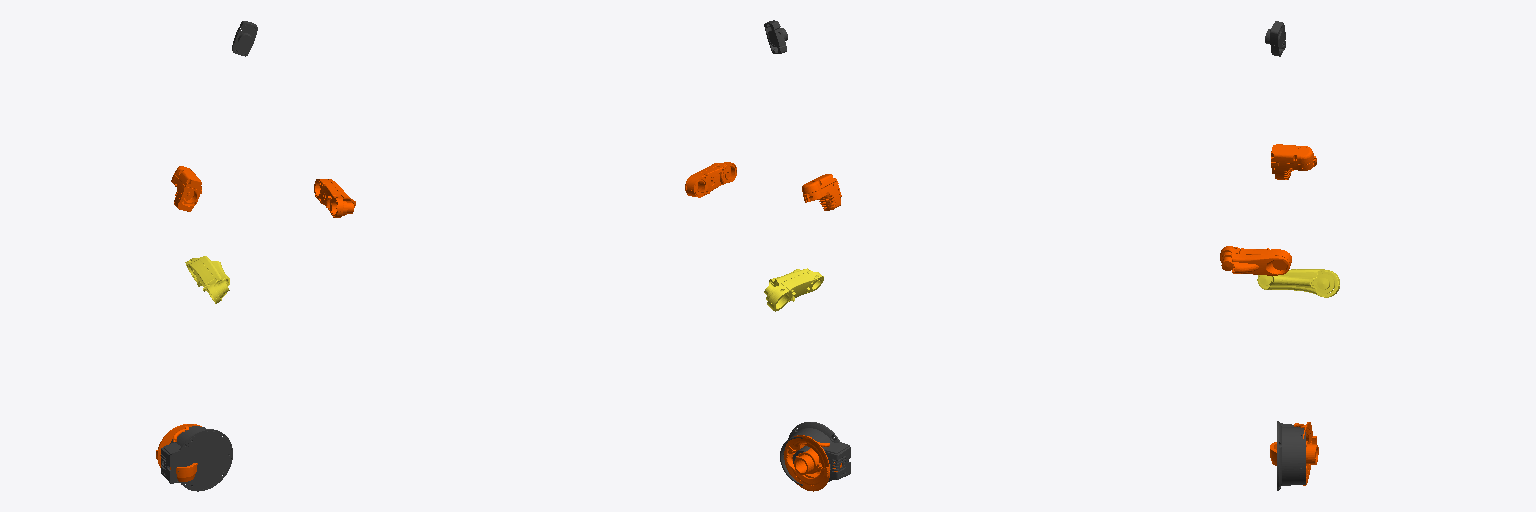
robot.urdf — youbot:
<?xml version="1.0" ?>
<!-- =================================================================================== -->
<!-- |    This document was autogenerated by xacro from youbot_description/robots/youbot_arm_only.urdf.xacro | -->
<!-- |    EDITING THIS FILE BY HAND IS NOT RECOMMENDED                                 | -->
<!-- =================================================================================== -->
<robot name="youbot" xmlns:controller="http://playerstage.sourceforge.net/gazebo/xmlschema/#controller" xmlns:interface="http://playerstage.sourceforge.net/gazebo/xmlschema/#interface" xmlns:sensor="http://playerstage.sourceforge.net/gazebo/xmlschema/#sensor" xmlns:xacro="http://ros.org/wiki/xacro">
  <!-- The following included files set up definitions of parts of the robot body -->
  <!-- misc common stuff? -->
  <!-- Casters -->
  <!-- materials for visualization -->
  <material name="youBot/Orange">
    <color rgba="1.0 0.4 0.0 1.0"/>
  </material>
  <material name="youBot/Grey">
    <color rgba="0.7 0.7 0.7 1.0"/>
  </material>
  <material name="youBot/DarkGrey">
    <color rgba="0.3 0.3 0.3 1.0"/>
  </material>
  <material name="youBot/White">
    <color rgba="1.0 1.0 1.0 1.0"/>
  </material>
  <material name="youBot/Black">
    <color rgba="0.0 0.0 0.0 1.0"/>
  </material>
  <material name="youBot/Red">
    <color rgba="1.0 0.0 0.0 1.0"/>
  </material>
  <material name="youBot/Green">
    <color rgba="0.0 1.0 0.0 1.0"/>
  </material>
  <material name="youBot/Blue">
    <color rgba="0.0 0.0 0.8 1.0"/>
  </material>
  <material name="youBot/LightGrey">
    <color rgba="0.82 0.82 0.82 1.0"/>
  </material>
  <!-- youbot arm -->
  <!-- reduction ratio doesn't affect the model-->
  <!-- reduction ratio must not to be 0-->
  &gt;

	
  <!-- common properties -->
  <!-- arm limits positions (deg) -->
  <!-- dynamic properties : mass (kg) Alu data sheet -->
  <!--<property name="link_0_mass" value="0.845" />
	<property name="link_1_mass" value="0.1" />
	<property name="link_2_mass" value="0.1" />
	<property name="link_3_mass" value="0.1" />
	<property name="link_4_mass" value="0.1" />
	<property name="link_5_mass" value="0.1" />-->
  <!-- TODO: add inertia tensor-->
  <!-- youbot arm -->
  <!-- common properties -->
  <!-- fingers limits, values are in meters -->
  <!-- controller manager -->
  <gazebo>
    <plugin filename="libgazebo_ros_control.so" name="gazebo_ros_controller"/>
  </gazebo>
  <!-- Now we can start using the macros included above to define the actual youbot -->
  <!-- The first use of a macro.  This one was defined in base.urdf.xacro above.
       A macro like this will expand to a set of link and joint definitions, and to additional
       Gazebo-related extensions (sensor plugins, etc).  The macro takes an argument, name, 
       that equals "base", and uses it to generate names for its component links and joints 
       (e.g., base_link).  The included origin block is also an argument to the macro.  By convention, 
       the origin block defines where the component is w.r.t its parent (in this case the parent 
       is the world frame). For more, see http://www.ros.org/wiki/xacro -->
  <!-- foot for arm-->
  <link name="base_link">
   <!--<inertial>
      <origin rpy="0 0 0" xyz="0 0 0"/>
      <mass value="10.0"/>
      <inertia ixx="0.1" ixy="0" ixz="0" iyy="0.1" iyz="0" izz="0.1"/>
    </inertial>-->
  </link>

  <!-- joint between base_link and arm_0_link -->
  <joint name="arm_joint_0" type="fixed">
    <origin rpy="0 0 0" xyz="0 0 0"/>
    <parent link="base_link"/>
    <child link="arm_link_0"/>
  </joint>
  <link name="arm_link_0">
    <inertial>
      <!--<origin xyz="0.023 0 0.006" rpy="0 0 0"/>-->
      <origin rpy="0 0 0" xyz="0 0 0"/>
      <mass value="0.961"/>
      <inertia ixx="0.01" ixy="0" ixz="0" iyy="0.01" iyz="0" izz="0.01"/>
    </inertial>
    <visual>
      <origin rpy="0 0 0" xyz="0 0 0"/>
      <geometry>
        <mesh filename="package://youbot_description/meshes/youbot_arm/arm0.stl"/>
      </geometry>
      <material name="youBot/DarkGrey"/>
    </visual>
    <collision>
      <!--<origin xyz="0.023 0 0.006" rpy="0 0 0"/>-->
      <origin rpy="0 0 0" xyz="0 0 0"/>
      <geometry>
        <mesh filename="package://youbot_description/meshes/youbot_arm/arm0_convex.stl"/>
        <!--<cylinder length="0.078" radius="0.093"/>-->
      </geometry>
    </collision>
  </link>
  <!-- joint between arm_0_link and arm_1_link -->
  <joint name="arm_joint_1" type="revolute">
    <origin rpy="0 0 2.96705972839" xyz="0.0 0 0.0"/>
    <parent link="arm_link_0"/>
    <child link="arm_link_1"/>
    <axis xyz="0 0 -1"/>
    <!--<calibration rising="${arm_1_ref}" falling="${arm_1_ref}"/>-->
    <dynamics damping="1" friction="1"/>
    <!-- damping - N*s/m, N*s*m/rad -->
    <!-- friction - N, N*m -->
    <limit effort="9.5" lower="0" upper="5.89921287174" velocity="1.57079632679"/>
    <!--effort - N, N*m-->
    <!--velocity - m/s, rad/s-->
    <!--safety_controller k_position="20" k_velocity="${9.5/M_PI / 2.0}" soft_lower_limit="${threshold}" soft_upper_limit="${joint_1_limit_soft}" /-->
    <!--k_position N/m, N/rad-->
    <!--k_velocity N*s/m, N*s*m/rad-->
    <!--for details: http://www.ros.org/wiki/pr2_controller_manager/safety_limits-->
  </joint>
  <link name="arm_link_1">
    <inertial>
      <mass value="1.39"/>
      <origin rpy="0 0 0" xyz="0.01489 0.00213 0.00213"/>
      <inertia ixx="0.0029525" ixy="0.0" ixz="0.0" iyy="0.0060091" iyz="0.0" izz="0.0058821"/>
    </inertial>
    <visual>
      <origin rpy="0 0 0" xyz="0 0 0"/>
      <geometry>
        <mesh filename="package://youbot_description/meshes/youbot_arm/arm1.stl"/>
      </geometry>
      <material name="youBot/Orange"/>
    </visual>
    <collision>
      <!--<origin xyz="0 0 -0.003" rpy="0 0 0" />-->
      <origin rpy="0 0 0" xyz="0 0 0"/>
      <geometry>
        <mesh filename="package://youbot_description/meshes/youbot_arm/arm1_convex.stl"/>
        <!--<cylinder length="0.102" radius="0.080"/>-->
      </geometry>
    </collision>
  </link>
  <!-- joint between arm_1_link and arm_2_link -->
  <joint name="arm_joint_2" type="revolute">
    <origin rpy="0 -1.1344640138 0" xyz="0.0 0 0.5"/>
    <parent link="arm_link_1"/>
    <child link="arm_link_2"/>
    <axis xyz="0 1 0"/>
    <!--<calibration rising="${arm_2_ref}" falling="${arm_2_ref}"/>-->
    <dynamics damping="1" friction="1"/>
    <limit effort="9.5" lower="0" upper="2.70526034059" velocity="1.57079632679"/>
    <!--safety_controller k_position="20" k_velocity="${2*9.5/M_PI}" soft_lower_limit="${threshold}" soft_upper_limit="${joint_2_limit_soft}" /-->
  </joint>
  <link name="arm_link_2">
    <inertial>
      <mass value="1.318"/>
      <origin rpy="0 0 0" xyz="0.01053 -0.0307 0.08597"/>
      <inertia ixx="0.0031145" ixy="0.0" ixz="0.0" iyy="0.0005843" iyz="0.0" izz="0.0031631"/>
    </inertial>
    <visual>
      <origin rpy="0 0 0" xyz="0 -0.032 0.078"/>
      <geometry>
        <mesh filename="package://youbot_description/meshes/youbot_arm/arm2.stl"/>
      </geometry>
    </visual>
    <collision>
      <!--<origin xyz="0.001 -0.041 0.074" rpy="0 0 0" />-->
      <origin rpy="0 0 0" xyz="0 -0.032 0.078"/>
      <geometry>
        <mesh filename="package://youbot_description/meshes/youbot_arm/arm2_convex.stl"/>
        <!--<box size="0.074 0.082 0.222"/>-->
      </geometry>
    </collision>
  </link>
  <!-- joint between arm_2_link and arm_3_link -->
  <!--<joint name="${name}_joint_3" type="revolute">
			<origin xyz="0.000 0.000 0.155" rpy="0 ${146 * M_PI / 180} 0"/>
			<parent link="${name}_link_2"/>
			<child link="${name}_link_3"/>
			<axis xyz="0 1 0"/>
			<dynamics damping="1" friction="1" />
			<limit effort="${6}" velocity="${M_PI / 2.0}" lower="-${joint_3_limit}" upper="0"/>
      <safety_controller k_position="20" k_velocity="50" soft_lower_limit="-${joint_3_limit_soft}" soft_upper_limit="${threshold}" />
		</joint>-->
  <joint name="arm_joint_3" type="revolute">
    <origin rpy="0 2.54818070791 0" xyz="0.000 0.000 0.555"/>
    <parent link="arm_link_2"/>
    <child link="arm_link_3"/>
    <axis xyz="0 1 0"/>
    <dynamics damping="1" friction="1"/>
    <limit effort="6.0" lower="-5.18362787842" upper="0" velocity="1.57079632679"/>
    <!--safety_controller k_position="20" k_velocity="50" soft_lower_limit="-${joint_3_limit_soft}" soft_upper_limit="-${threshold}" /-->
  </joint>
  <link name="arm_link_3">
    <inertial>
      <mass value="0.821"/>
      <origin rpy="0 0 0" xyz="0.0001 0.0207 0.07107"/>
      <inertia ixx="0.00172767" ixy="0.0" ixz="0.0" iyy="0.00041967" iyz="0.0" izz="0.0018468"/>
    </inertial>
    <visual>
      <origin rpy="0 0 0" xyz="0.000 0.028 0.079"/>
      <geometry>
        <mesh filename="package://youbot_description/meshes/youbot_arm/arm3.stl"/>
      </geometry>
      <material name="youBot/Orange"/>
    </visual>
    <collision>
      <!--<origin xyz="0.000 0.025 0.067" rpy="0 0 0" />-->
      <origin rpy="0 0 0" xyz="0.000 0.028 0.079"/>
      <geometry>
        <mesh filename="package://youbot_description/meshes/youbot_arm/arm3_convex.stl"/>
        <!--<box size="0.064 0.054 0.192"/>-->
      </geometry>
    </collision>
  </link>
  <!-- joint between arm_3_link and arm_4_link -->
  <joint name="arm_joint_4" type="revolute">
    <origin rpy="0 -1.78896248329 0" xyz="0.000 0.000 0.535"/>
    <parent link="arm_link_3"/>
    <child link="arm_link_4"/>
    <axis xyz="0 1 0"/>
    <!--<calibration rising="${arm_4_ref}" falling="${arm_4_ref}"/>-->
    <dynamics damping="1" friction="1"/>
    <limit effort="2.0" lower="0" upper="3.57792496659" velocity="1.57079632679"/>
    <!--safety_controller k_position="20" k_velocity="100" soft_lower_limit="0" soft_upper_limit="${joint_4_limit_soft}" /-->
  </joint>
  <link name="arm_link_4">
    <inertial>
      <mass value="0.769"/>
      <origin rpy="0 0 0" xyz="0.00011 -0.02 0.05019"/>
      <inertia ixx="0.0006764" ixy="0.0" ixz="0.0" iyy="0.0010573" iyz="0.0" izz="0.0006610"/>
    </inertial>
    <visual>
      <origin rpy="0 0 0" xyz="0 -0.010 0.029"/>
      <geometry>
        <mesh filename="package://youbot_description/meshes/youbot_arm/arm4.stl"/>
      </geometry>
      <material name="youBot/Orange"/>
    </visual>
    <collision>
      <!--<origin xyz="0 0 0.026" rpy="0 0 0" />-->
      <origin rpy="0 0 0" xyz="0 -0.010 0.029"/>
      <geometry>
        <mesh filename="package://youbot_description/meshes/youbot_arm/arm4_convex.stl"/>
        <!--<box size="0.058 0.100 0.118"/>-->
      </geometry>
    </collision>
  </link>


  <!-- joint between arm_4_link and arm_5_link -->
  <joint name="arm_joint_5" type="revolute">
    <origin rpy="0 0 2.92342649709" xyz="0.0 0 0.530"/>
    <parent link="arm_link_4"/>
    <child link="arm_link_5"/>
    <axis xyz="0 0 1"/>
    <!--<calibration rising="${arm_5_ref}" falling="${arm_5_ref}"/>-->
    <dynamics damping="1" friction="1"/>
    <limit effort="1.0" lower="0" upper="5.84685299418" velocity="1.57079632679"/>
    <!--safety_controller k_position="20" k_velocity="100" soft_lower_limit="0" soft_upper_limit="${joint_5_limit_soft}" /-->
  </joint>
  <link name="arm_link_5">
    <inertial>
      <mass value="0.687"/>
      <origin rpy="0 0 0" xyz="0.0 0.00115 -0.01683"/>
      <inertia ixx="0.0001934" ixy="0.0" ixz="0.0" iyy="0.0001602" iyz="0.0" izz="0.0000689"/>
    </inertial>
    <visual>
      <origin rpy="0 0 0" xyz="0.003 0 -0.034"/>
      <geometry>
        <mesh filename="package://youbot_description/meshes/youbot_arm/arm5.stl"/>
      </geometry>
      <material name="youBot/DarkGrey"/>
    </visual>
    <collision>
      <origin rpy="0 0 0" xyz="0.003 0 -0.034"/>
      <geometry>
        <mesh filename="package://youbot_description/meshes/youbot_arm/arm5_convex.stl"/>
        <!--<box size="0.054 0.096 0.030"/>-->
      </geometry>
    </collision>
  </link>

  
  <!-- extensions -->
  <gazebo reference="arm_link_0">
    <turnGravityOff>false</turnGravityOff>
  </gazebo>
  <gazebo reference="arm_link_1">
    <turnGravityOff>false</turnGravityOff>
  </gazebo>
  <gazebo reference="arm_link_2">
    <turnGravityOff>false</turnGravityOff>
  </gazebo>
  <gazebo reference="arm_link_3">
    <turnGravityOff>false</turnGravityOff>
  </gazebo>
  <gazebo reference="arm_link_4">
    <turnGravityOff>false</turnGravityOff>
  </gazebo>
  <gazebo reference="arm_link_5">
    <turnGravityOff>false</turnGravityOff>
  </gazebo>
  <transmission name="arm_trans_1">
    <type>transmission_interface/SimpleTransmission</type>
    <actuator name="arm_motor_1">
      <hardwareInterface>EffortJointInterface</hardwareInterface>
      <mechanicalReduction>1</mechanicalReduction>
    </actuator>
    <joint name="arm_joint_1">
      <hardwareInterface>EffortJointInterface</hardwareInterface>
    </joint>
  </transmission>
  <transmission name="arm_trans_2">
    <type>transmission_interface/SimpleTransmission</type>
    <actuator name="arm_motor_2">
      <hardwareInterface>EffortJointInterface</hardwareInterface>
      <mechanicalReduction>1</mechanicalReduction>
    </actuator>
    <joint name="arm_joint_2">
      <hardwareInterface>EffortJointInterface</hardwareInterface>
    </joint>
  </transmission>
  <transmission name="arm_trans_3">
    <type>transmission_interface/SimpleTransmission</type>
    <actuator name="arm_motor_3">
      <hardwareInterface>EffortJointInterface</hardwareInterface>
      <mechanicalReduction>1</mechanicalReduction>
    </actuator>
    <joint name="arm_joint_3">
      <hardwareInterface>EffortJointInterface</hardwareInterface>
    </joint>
  </transmission>
  <transmission name="arm_trans_4">
    <type>transmission_interface/SimpleTransmission</type>
    <actuator name="arm_motor_4">
      <hardwareInterface>EffortJointInterface</hardwareInterface>
      <mechanicalReduction>1</mechanicalReduction>
    </actuator>
    <joint name="arm_joint_4">
      <hardwareInterface>EffortJointInterface</hardwareInterface>
    </joint>
  </transmission>
  <transmission name="arm_trans_5">
    <type>transmission_interface/SimpleTransmission</type>
    <actuator name="arm_motor_5">
      <hardwareInterface>EffortJointInterface</hardwareInterface>
      <mechanicalReduction>1</mechanicalReduction>
    </actuator>
    <joint name="arm_joint_5">
      <hardwareInterface>EffortJointInterface</hardwareInterface>
    </joint>
  </transmission>
 
</robot>

--- Facts derived from the render (not from the file) ---
Views: 3 orthographic renders of the robot side by side, from view 1: azimuth 30°, elevation 25°; view 2: azimuth 150°, elevation 25°; view 3: azimuth 270°, elevation 25°.
Robot: youbot — 7 links, 6 joints (5 revolute, 1 fixed); root link base_link; default pose: all joints at 0.
Visible links, largest first — view 1: arm_link_0, arm_link_2, arm_link_3, arm_link_4, arm_link_1, arm_link_5; view 2: arm_link_1, arm_link_0, arm_link_2, arm_link_3, arm_link_4, arm_link_5; view 3: arm_link_3, arm_link_0, arm_link_2, arm_link_4, arm_link_1, arm_link_5.
Boxes of the visible links, x1,y1,x2,y2 form: arm_link_0: (161,426,232,491); arm_link_2: (185,256,229,303); arm_link_3: (314,179,355,217); arm_link_4: (171,166,201,211); arm_link_1: (156,424,201,481); arm_link_5: (232,21,257,56); arm_link_1: (784,435,841,491); arm_link_0: (780,422,850,485); arm_link_2: (764,268,823,311); arm_link_3: (685,162,736,197); arm_link_4: (802,174,841,210); arm_link_5: (764,20,787,53); arm_link_3: (1220,246,1291,275); arm_link_0: (1277,421,1305,490); arm_link_2: (1257,269,1339,297); arm_link_4: (1271,144,1316,179); arm_link_1: (1270,422,1318,485); arm_link_5: (1265,21,1285,56).
Size in the robot's own frame: 0.544 by 0.3189 by 1.42 metres.
6 mesh visuals loaded from 6 distinct referenced files (6 binary STL).
